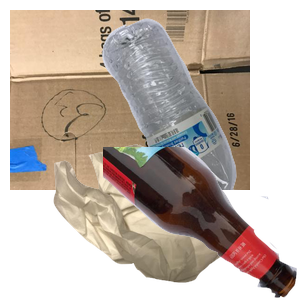cardboard: (10, 10, 250, 190)
glass: (103, 147, 300, 300)
plastic: (100, 16, 300, 196)
trash: (51, 142, 278, 300)
